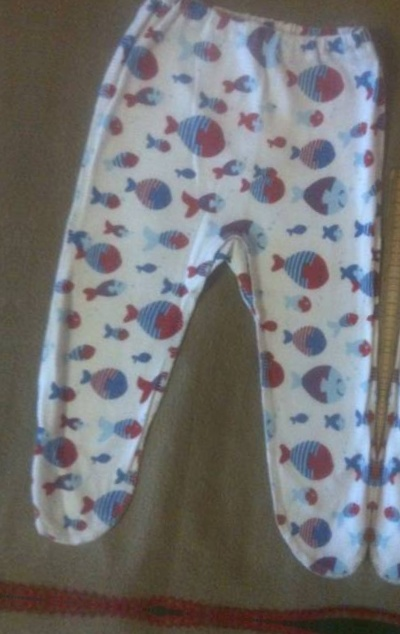Pants: (10, 0, 400, 590), (375, 15, 400, 625), (0, 0, 17, 553)
